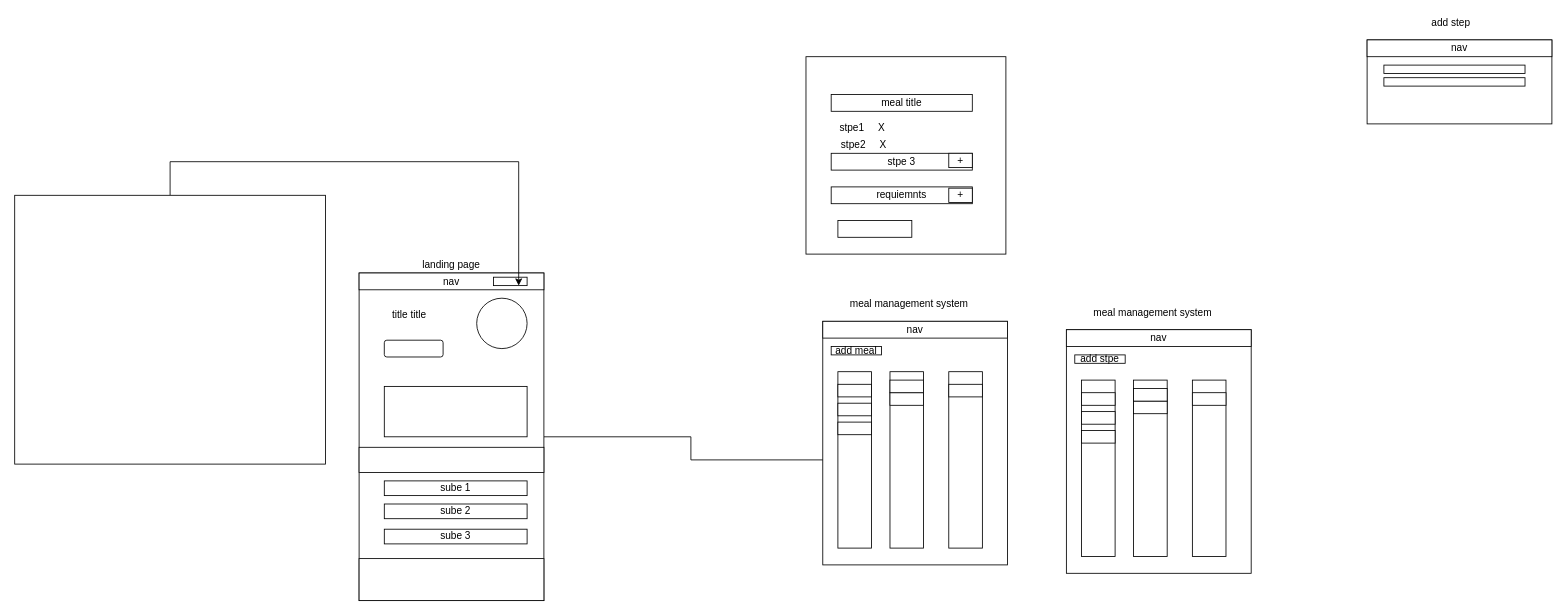
The diagram is 1567 pixels wide and 615 high, and some of its shapes have lost their labels. Each missing label, with the box of its shape:
add barnch formik: (14, 194, 326, 464)
footer: (358, 558, 544, 601)
news ltter: (358, 446, 544, 472)
our sefvices: (383, 386, 527, 437)
start: (383, 339, 443, 357)
submit: (837, 220, 912, 237)
